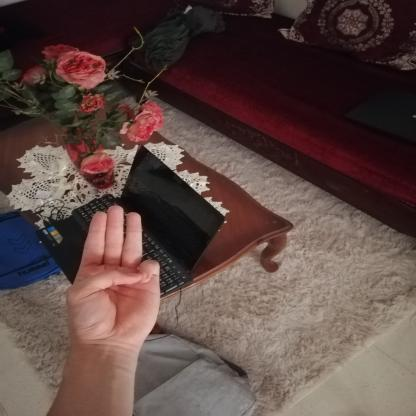THA: (55, 198, 168, 356)
